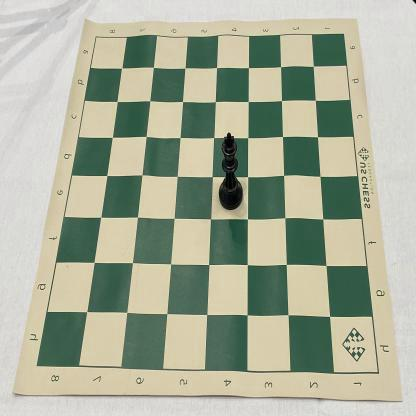black-king: (218, 132, 243, 211)
